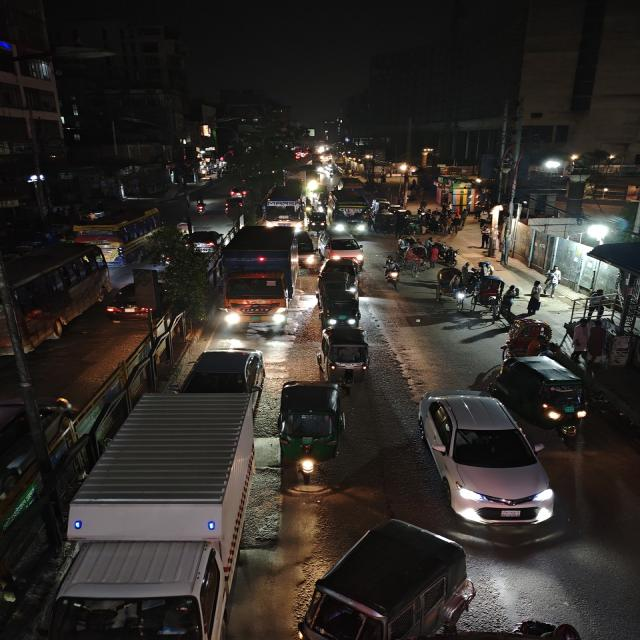bus: (0, 244, 105, 361), (72, 206, 166, 262), (325, 188, 371, 236), (262, 182, 308, 228), (337, 176, 366, 192)
car: (413, 388, 558, 530), (104, 288, 160, 324), (319, 235, 366, 261), (184, 228, 222, 254)
cng: (290, 518, 476, 640), (277, 377, 347, 484), (500, 354, 590, 436), (295, 230, 319, 268), (304, 208, 328, 232)
motorcycle: (382, 255, 404, 289), (177, 215, 195, 239), (191, 197, 209, 216)
pedestrian: (585, 321, 610, 366), (569, 317, 592, 361), (433, 266, 459, 301), (543, 264, 562, 298), (526, 285, 544, 314), (498, 238, 514, 268), (476, 260, 494, 278), (506, 283, 522, 301), (530, 278, 544, 298)
rickshaw: (314, 258, 365, 326), (316, 324, 372, 380), (499, 317, 556, 356), (402, 244, 432, 275)
truck: (53, 346, 272, 640), (218, 224, 297, 332)
